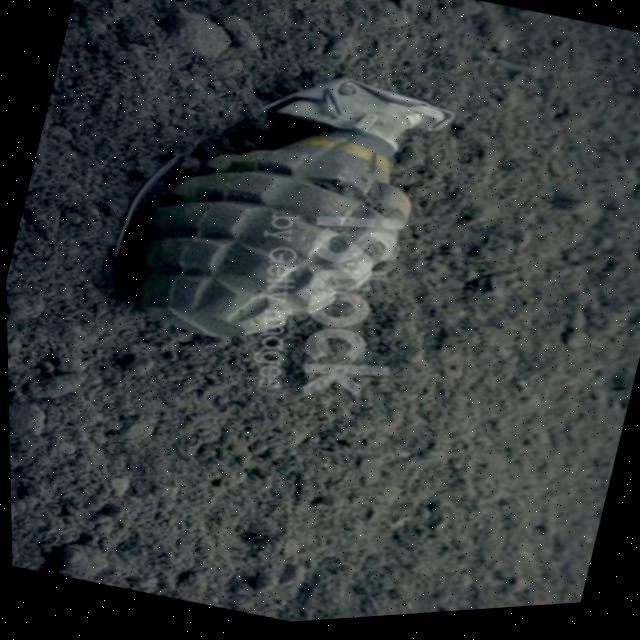grenade: (44, 0, 504, 428)
